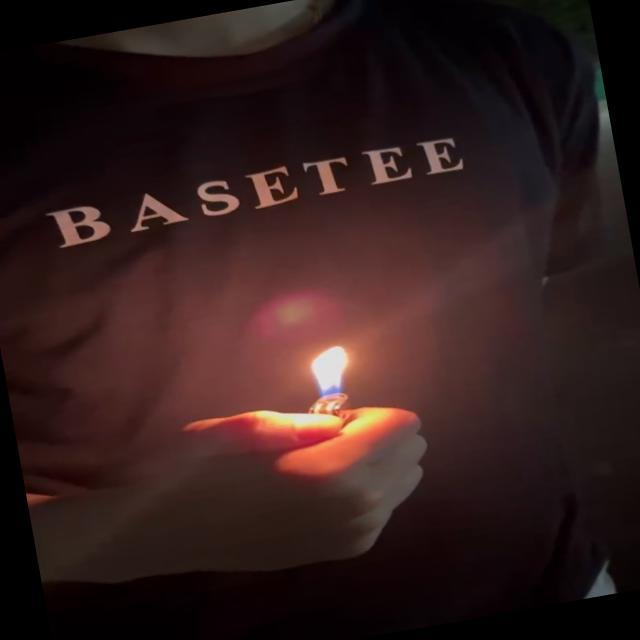Fire: (302, 341, 363, 408)
